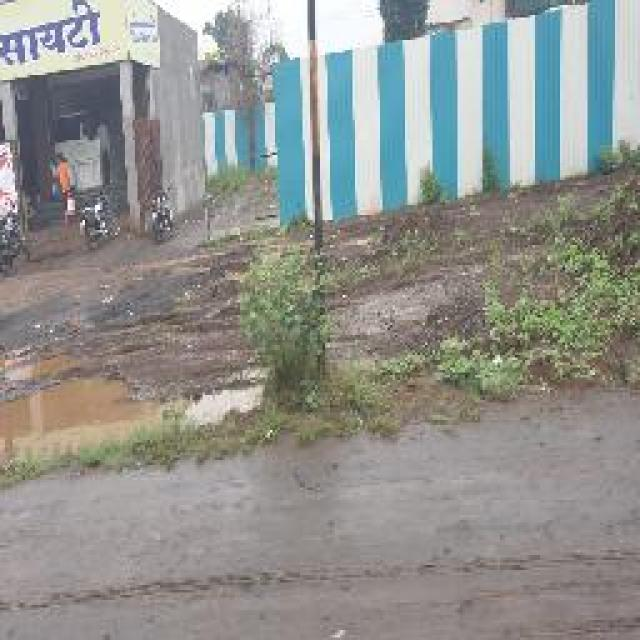puddle: (1, 374, 270, 455)
